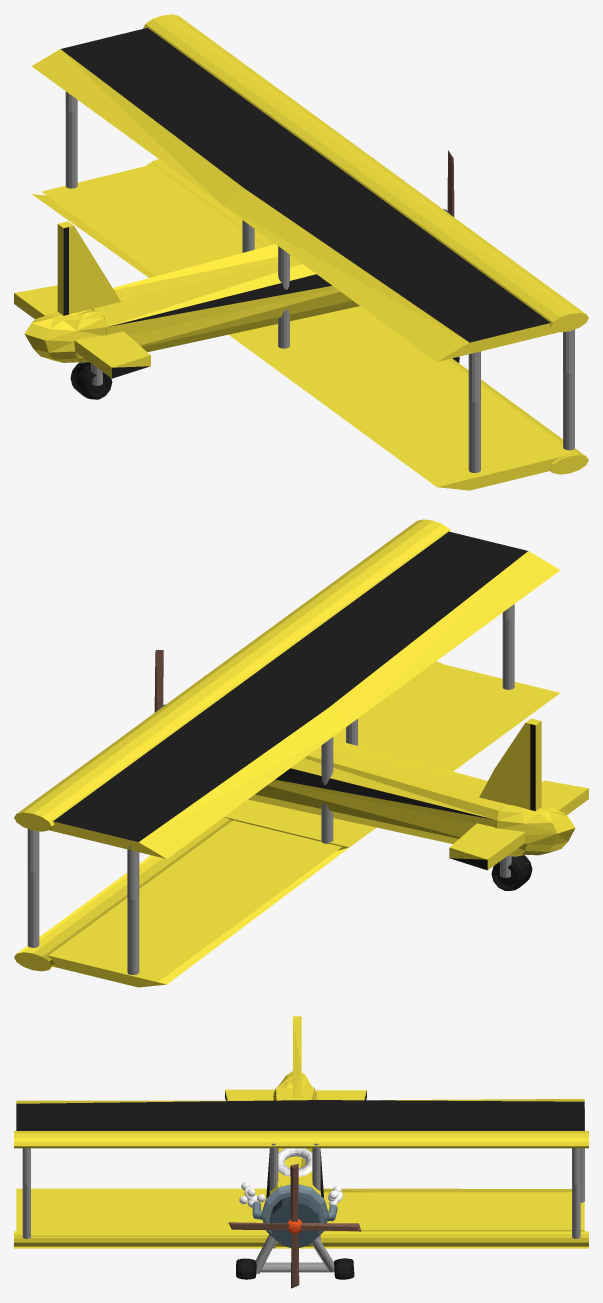
File: scene_9EtZsXelkB.glb
3 renders of one model, top to bottom at view 1: azimuth 30°, elevation 25°; view 2: azimuth 150°, elevation 25°; view 3: azimuth 270°, elevation 25°, orthographic. The views are drawn at different scales.
Parts seen in each view (by area): view 1: Node; view 2: Node; view 3: Node.
Part boxes in pixels (x1,y1,x2,y2): Node: [14, 14, 588, 490]; Node: [14, 519, 588, 987]; Node: [14, 1016, 588, 1288].
Size of the model in its own units: 0.8259 by 0.372 by 1.35.
